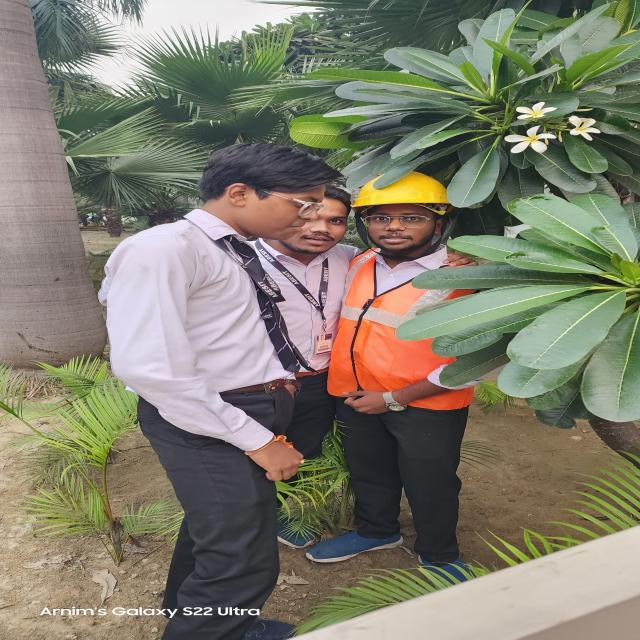safe: (342, 163, 476, 583)
unsafe: (109, 136, 326, 640)
